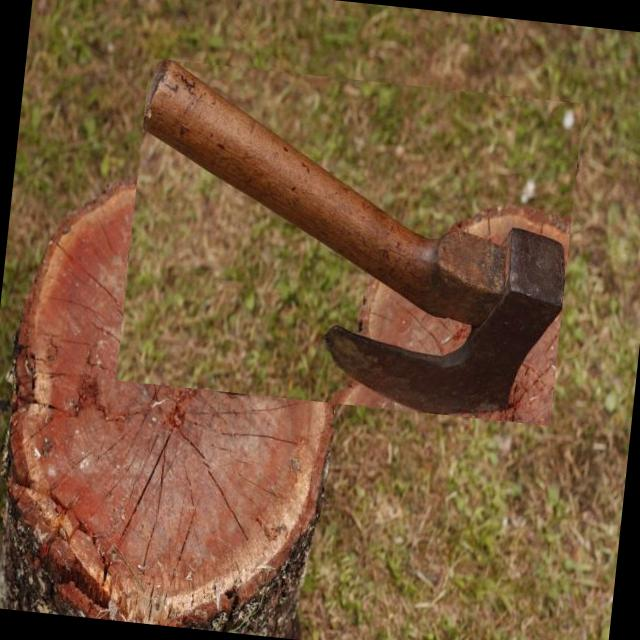Axe: (143, 60, 565, 413)
